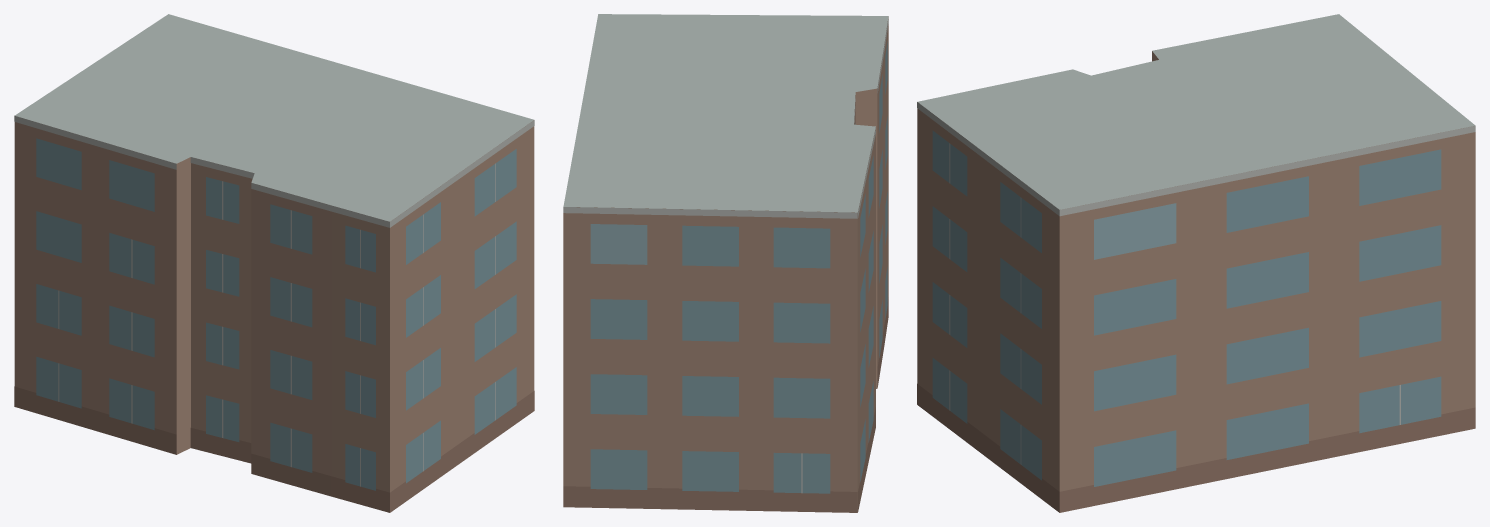
File: survey-upis-33007511.glb
The picture shows the model from 3 angles, left to right: view 1: azimuth 30°, elevation 25°; view 2: azimuth 150°, elevation 25°; view 3: azimuth 270°, elevation 25°; orthographic projection. The views are drawn at different scales.
Parts seen in each view (by area): view 1: survey-upis-33007511.tmp; view 2: survey-upis-33007511.tmp; view 3: survey-upis-33007511.tmp.
Part boxes in pixels (box(x1,y1,x2,y2)): survey-upis-33007511.tmp: box(14, 14, 534, 512); survey-upis-33007511.tmp: box(563, 14, 888, 512); survey-upis-33007511.tmp: box(917, 14, 1475, 512).
Size of the model in its own units: 16.1 by 11.6 by 19.39.
